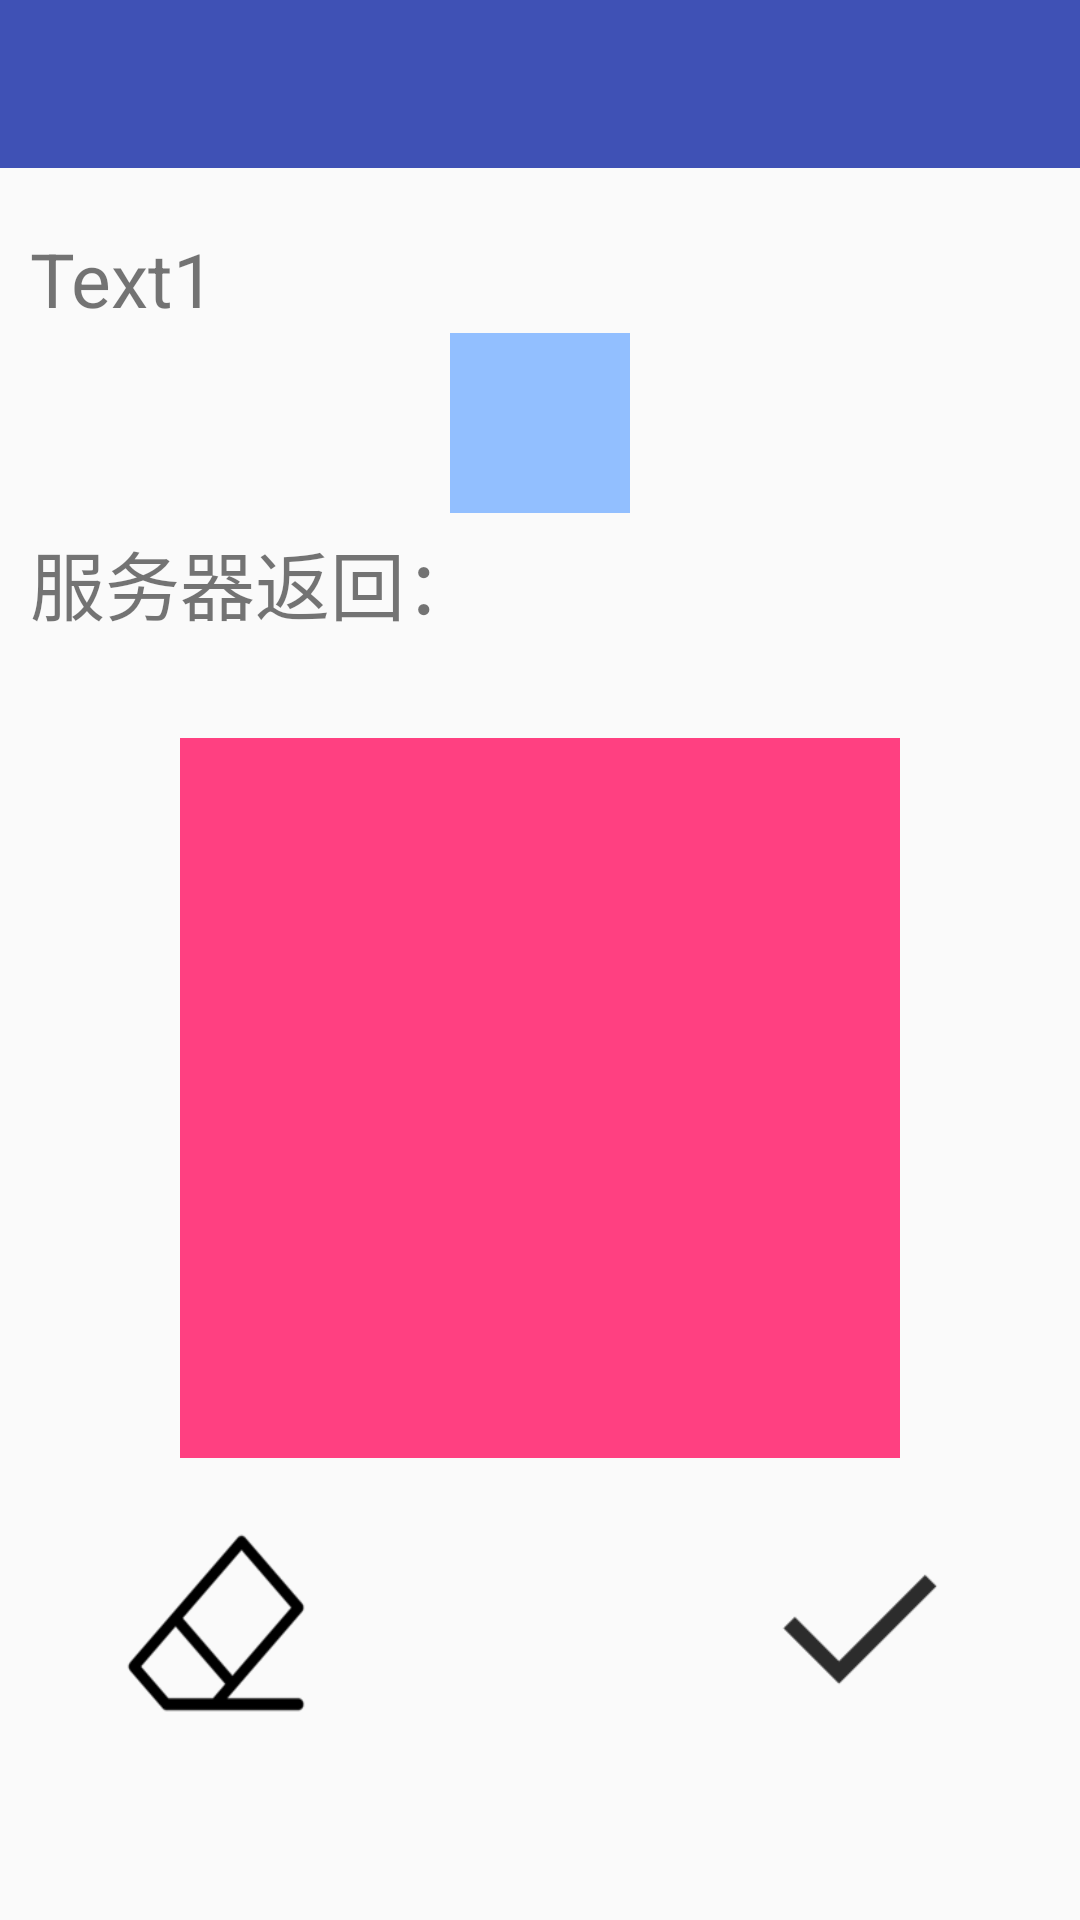

Icons on this 1080px×1920px Android screen, each with its box as [x1,y1,x2,y2]:
eraser: [128,1535,305,1712]
